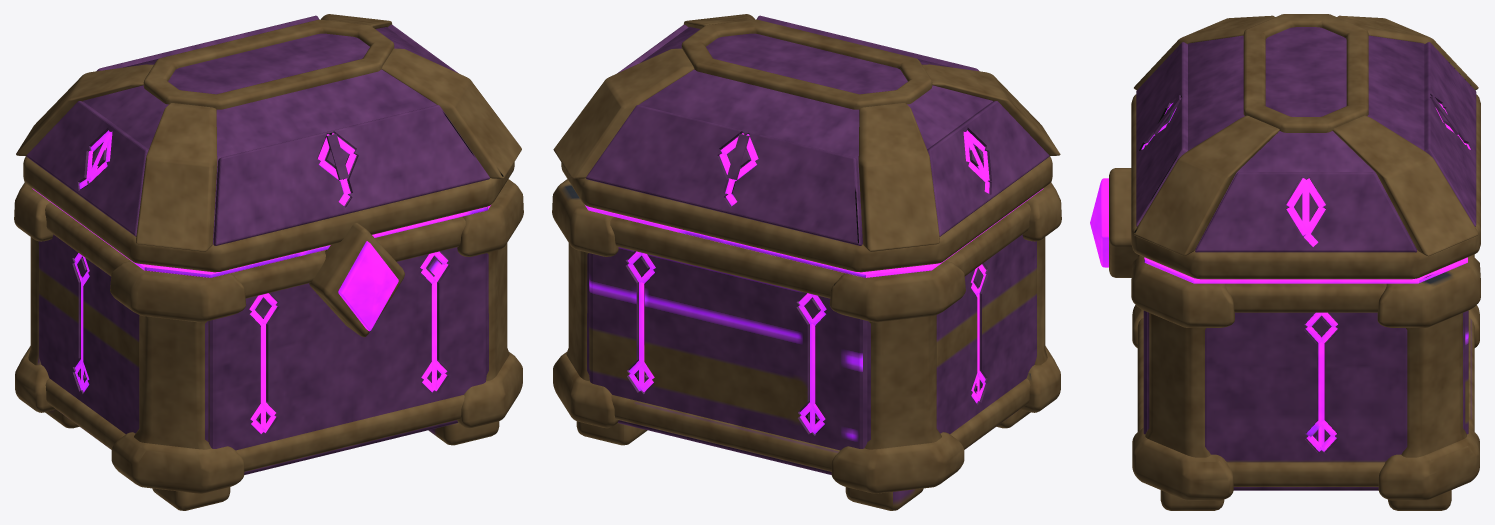
Rendered from T3_Rune.fbx.
3 renders of one model, left to right at view 1: azimuth 30°, elevation 25°; view 2: azimuth 150°, elevation 25°; view 3: azimuth 270°, elevation 25°, orthographic.
Visible parts, largest first — view 1: Body, Lid; view 2: Body, Lid; view 3: Lid, Body.
Part boxes in pixels (x1,y1,x2,y2): Body: [14, 179, 523, 510]; Lid: [16, 14, 521, 272]; Body: [552, 179, 1061, 510]; Lid: [553, 14, 1060, 272]; Lid: [1131, 14, 1480, 279]; Body: [1090, 168, 1480, 510].
Bounding box in the file's own units: 1.03 × 0.914 × 0.8847.
Materials: 1 (1 with a texture image).
